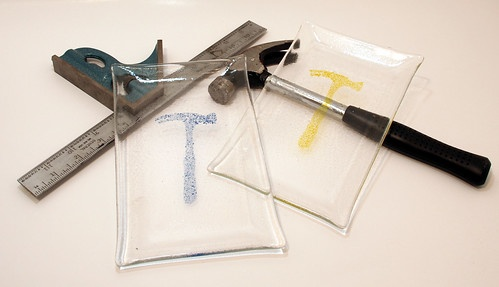hammer: (208, 38, 491, 190)
